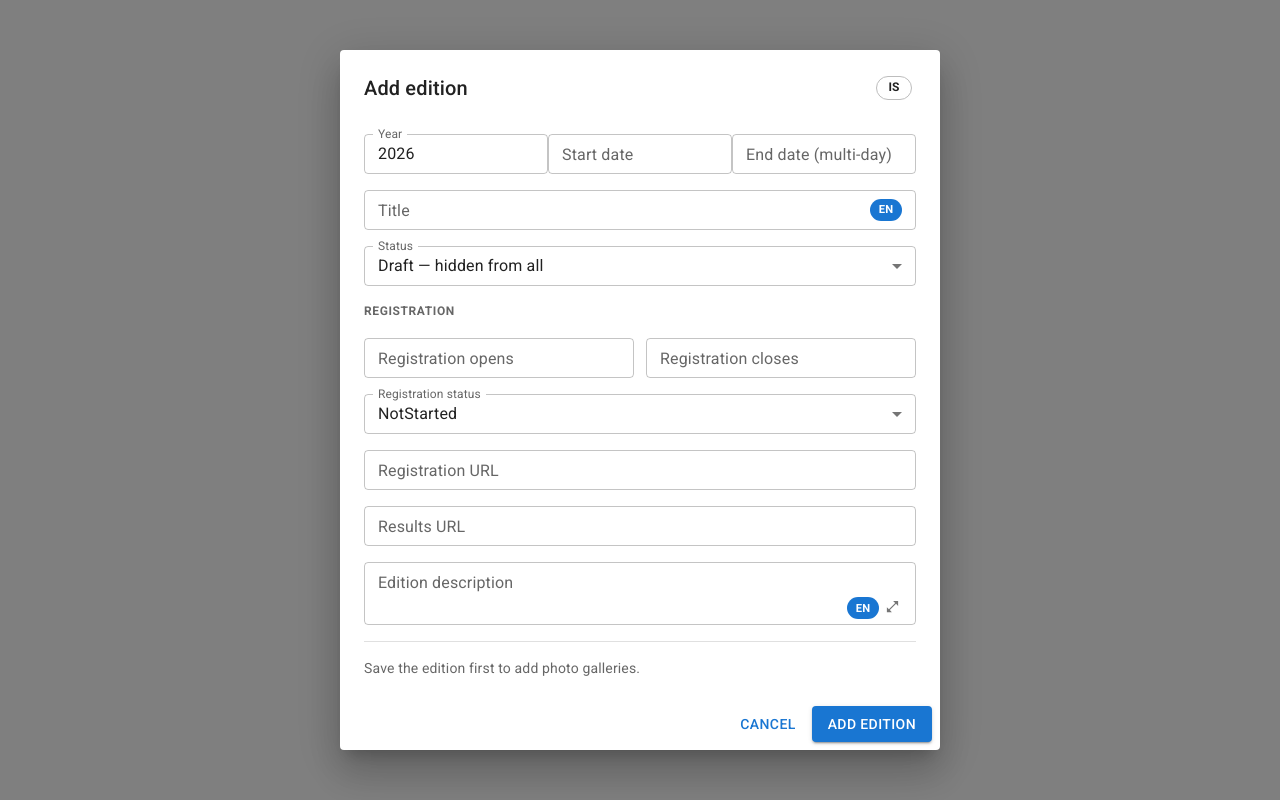
EditionDialogInner — Status/Registration status Selects are reachable via getByLabelText (#977) › locates Registration status by label and changes it
Press the mouse on the dropdown named "Registration status" at coordinates (418, 414), box [378,404,457,423]
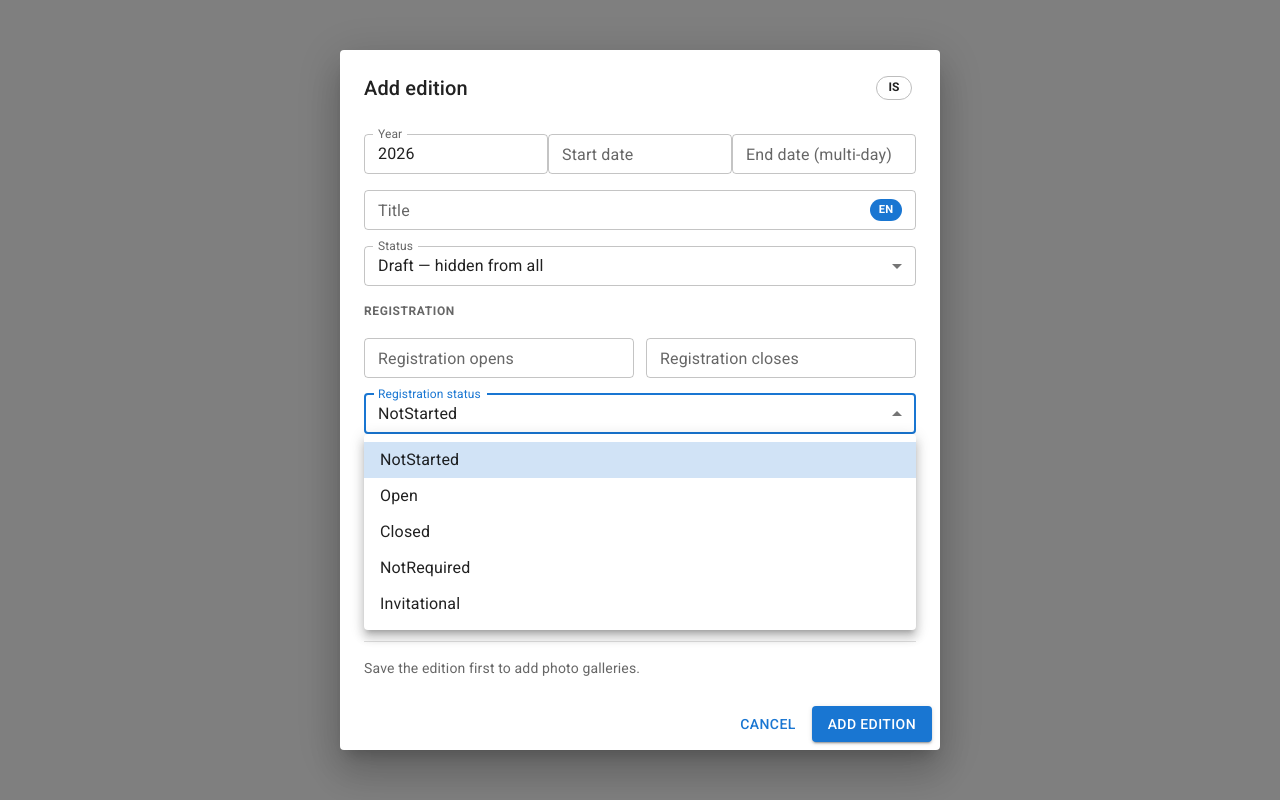
Click the option "Open".
click(399, 496)  # box [380,486,418,505]
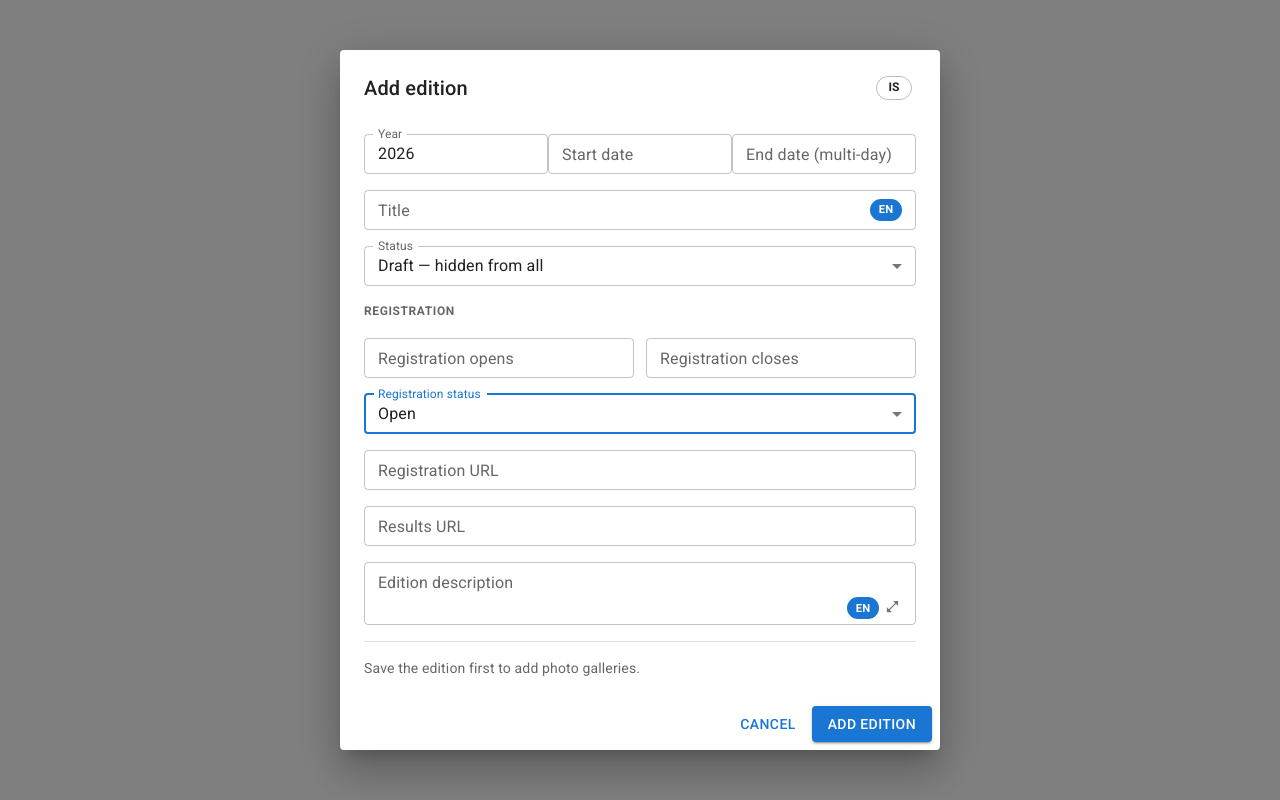
Check: the dropdown named "Registration status" reads "Open", box [378,404,416,423]
